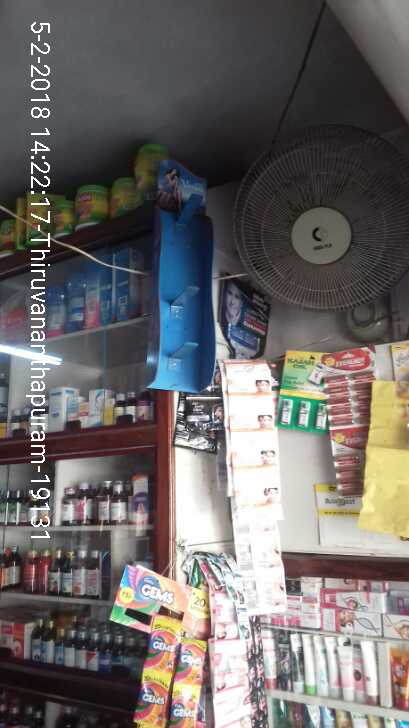reject: (141, 281, 270, 394)
